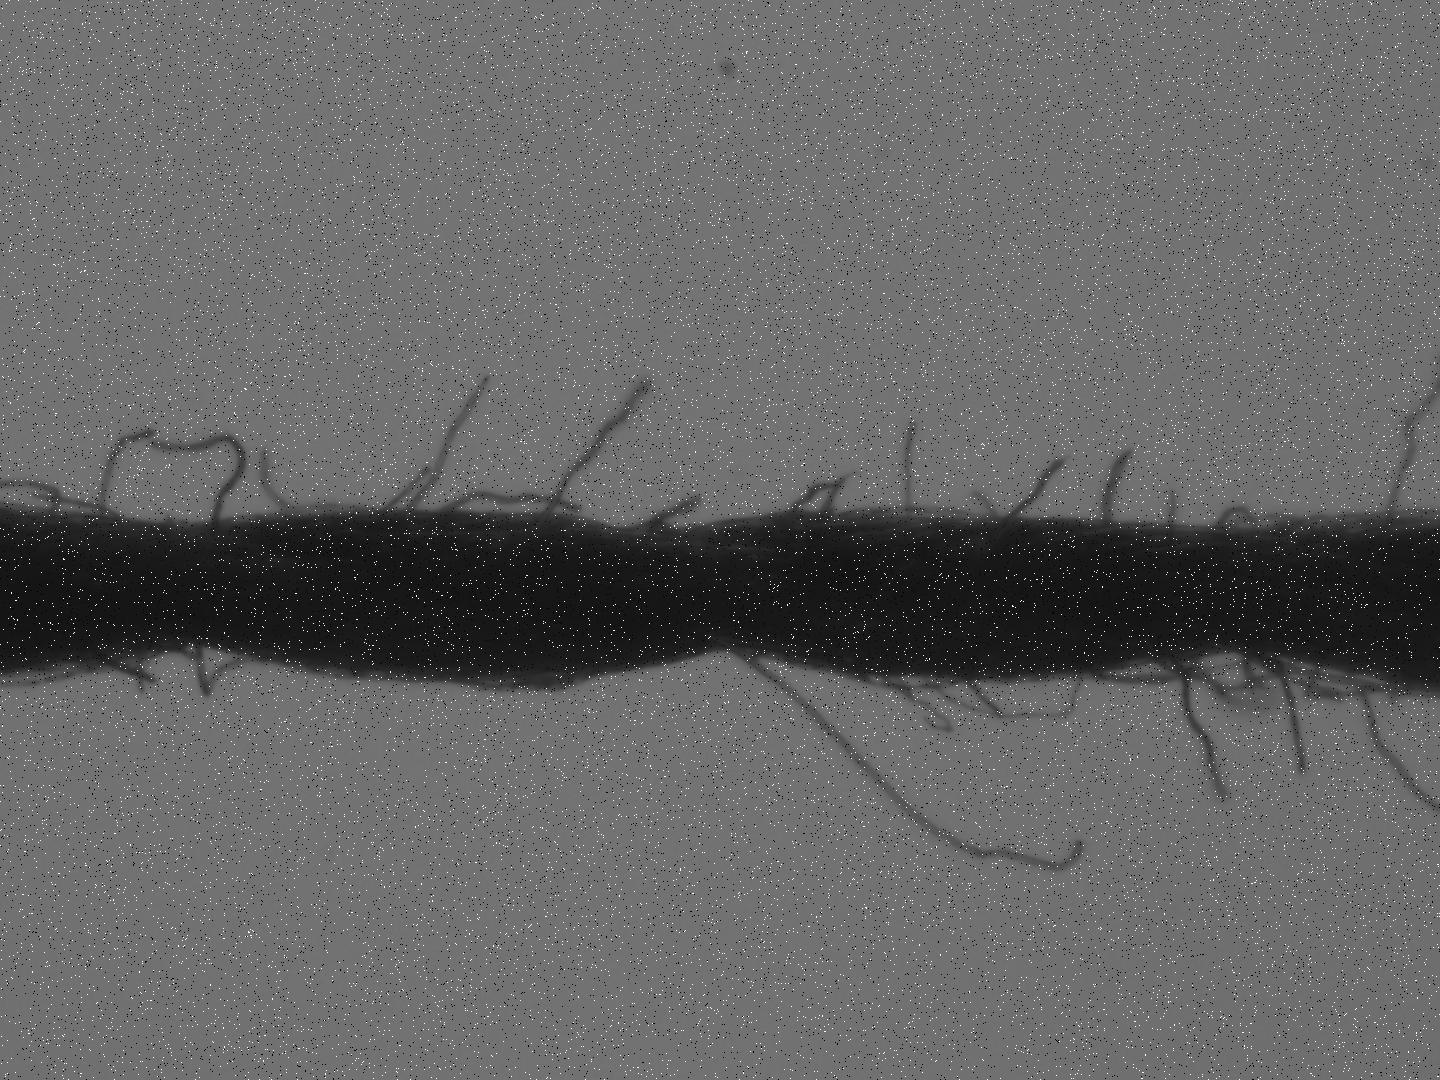loop_fiber: (921, 672, 1084, 724), (1276, 656, 1402, 704), (1165, 656, 1299, 699), (1086, 651, 1206, 686), (452, 672, 596, 697), (196, 646, 260, 701), (1214, 507, 1258, 537)
protruding_fiber: (718, 646, 1088, 872), (87, 420, 160, 522), (1002, 450, 1076, 519), (1271, 664, 1310, 783)
